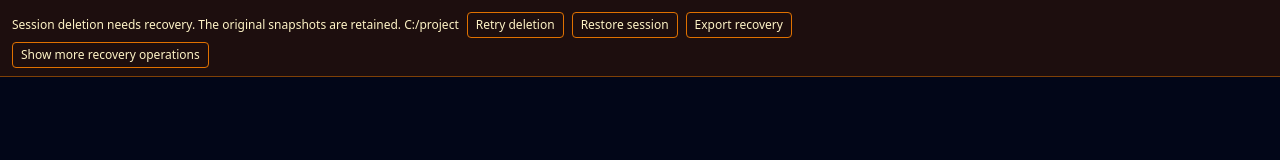
it: preserves loaded operations and permits another pagination attempt after failure
Click the button "Show more recovery operations". click: {"x": 110, "y": 55}
box: [12,42,209,68]
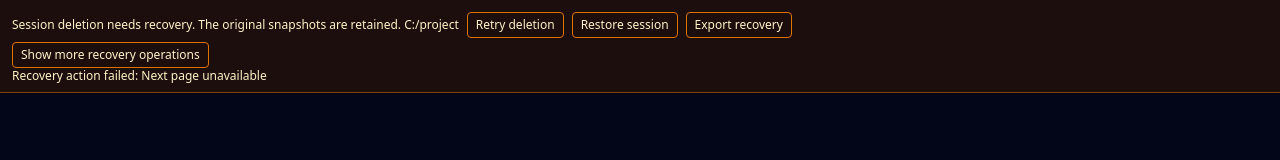
expect the text "C:/project" is shown: met, box [404,16,459,33]
expect the text "Next page unavailable" is shown: met, box [12,67,267,84]
